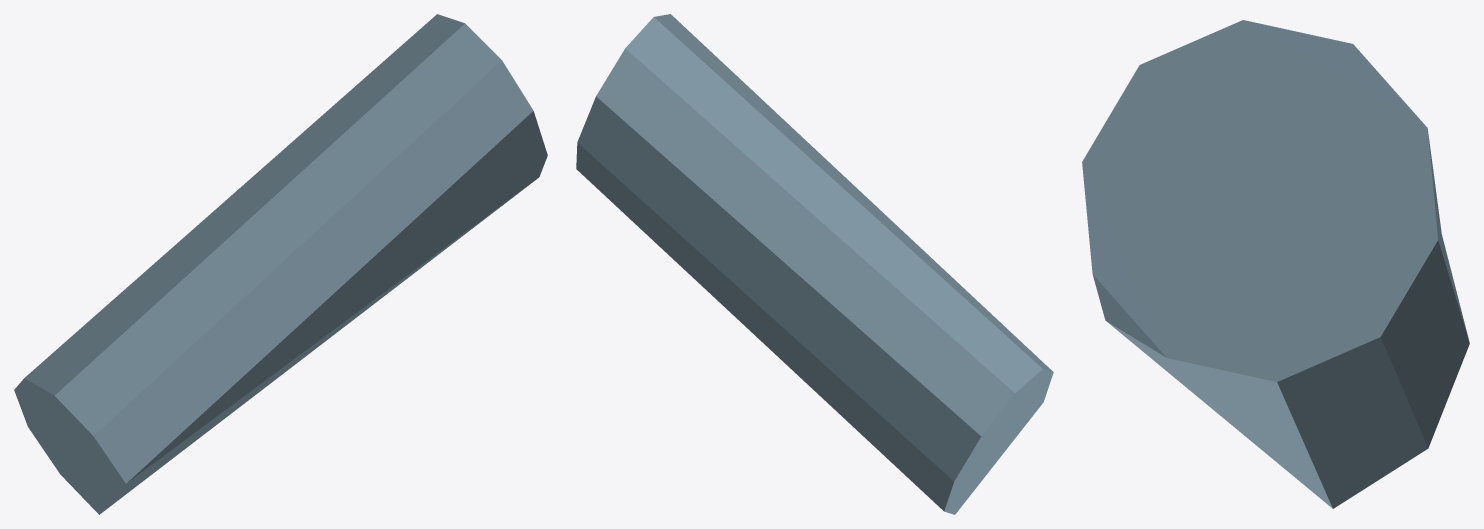
File: group1927985819_lev3.001.glb
3 renders of one model, left to right at view 1: azimuth 30°, elevation 25°; view 2: azimuth 150°, elevation 25°; view 3: azimuth 270°, elevation 25°, orthographic. The views are drawn at different scales.
Visible parts, largest first — view 1: group1927985819_lev3.001; view 2: group1927985819_lev3.001; view 3: group1927985819_lev3.001.
Part boxes in pixels (x1,y1,x2,y2): group1927985819_lev3.001: [14, 14, 547, 514]; group1927985819_lev3.001: [576, 14, 1053, 514]; group1927985819_lev3.001: [1082, 20, 1469, 508].
Size of the model in its own units: 0.4367 by 0.3806 by 0.1661.
